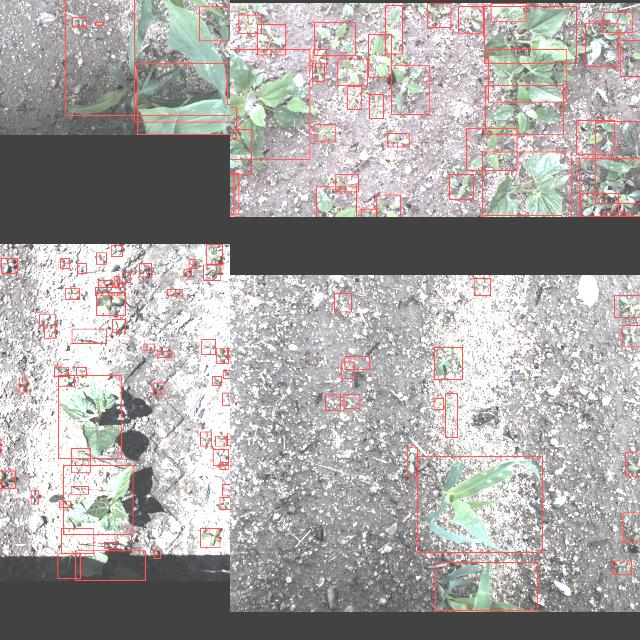crop: (65, 0, 230, 115), (418, 456, 542, 552), (135, 0, 230, 122), (137, 63, 230, 134), (482, 151, 571, 217), (58, 374, 122, 458), (484, 5, 576, 62), (63, 464, 133, 534), (435, 562, 537, 610), (488, 48, 566, 102), (75, 550, 145, 580), (490, 2, 526, 22)
weed: (230, 48, 309, 159), (486, 84, 564, 134), (596, 121, 640, 203), (580, 158, 640, 216), (467, 128, 517, 170), (391, 64, 429, 114), (586, 23, 618, 66), (314, 22, 356, 54), (576, 120, 614, 154), (316, 186, 356, 217), (199, 6, 230, 40), (368, 34, 392, 76), (580, 192, 618, 217), (256, 24, 286, 54), (434, 347, 462, 379), (61, 528, 94, 554), (386, 4, 402, 54), (337, 58, 367, 84), (458, 5, 484, 32), (621, 40, 640, 76), (96, 292, 125, 314), (604, 10, 632, 32), (449, 174, 473, 198), (58, 553, 80, 579), (614, 294, 640, 316), (376, 194, 400, 217), (428, 2, 450, 26), (445, 393, 457, 437), (623, 512, 640, 541), (72, 328, 106, 342), (238, 13, 262, 32), (72, 448, 90, 472), (336, 174, 358, 192), (622, 324, 640, 346), (368, 94, 384, 118), (230, 172, 239, 213), (346, 85, 362, 108), (200, 528, 220, 546), (334, 292, 352, 312), (314, 124, 336, 140), (626, 451, 640, 475), (207, 243, 223, 263), (344, 356, 370, 368), (407, 446, 417, 476), (203, 264, 221, 280), (388, 132, 408, 146), (96, 286, 124, 296), (612, 560, 632, 574), (474, 278, 491, 294), (0, 470, 15, 487), (313, 48, 327, 66), (341, 360, 355, 378), (1, 258, 17, 272), (202, 338, 216, 354), (214, 449, 228, 465), (344, 394, 360, 408), (326, 394, 340, 410), (312, 62, 324, 80), (112, 318, 126, 332), (230, 107, 236, 139), (40, 313, 54, 325), (139, 262, 151, 276), (216, 348, 228, 362), (200, 431, 212, 445), (59, 375, 75, 385), (603, 211, 628, 217), (361, 208, 377, 217), (71, 486, 89, 494), (44, 325, 56, 337), (65, 288, 79, 298), (54, 366, 68, 376), (111, 244, 122, 256), (219, 497, 230, 509), (72, 18, 86, 27), (154, 382, 164, 394), (19, 377, 27, 391), (216, 435, 227, 445), (30, 491, 38, 504), (60, 257, 70, 267), (96, 252, 106, 262), (212, 375, 222, 385), (434, 398, 444, 408), (156, 351, 172, 357), (222, 392, 230, 404), (222, 484, 230, 496), (77, 263, 86, 273), (98, 280, 112, 286), (168, 289, 182, 295), (76, 367, 86, 375), (122, 271, 130, 281), (188, 258, 196, 268), (104, 542, 116, 548), (144, 344, 154, 351), (184, 268, 192, 276), (60, 501, 70, 507), (114, 276, 120, 286), (223, 369, 230, 377), (154, 550, 160, 558), (220, 462, 228, 468), (227, 433, 230, 445), (227, 347, 230, 359), (95, 21, 103, 25)
